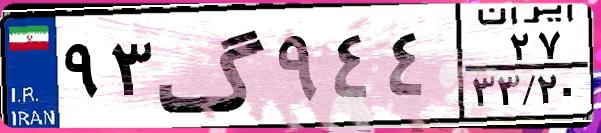0: (560, 70, 590, 125)
2: (508, 27, 537, 80), (535, 70, 560, 125)
3: (110, 28, 156, 98), (470, 70, 495, 125), (495, 70, 520, 125)
4: (385, 28, 445, 110), (330, 28, 385, 110)
7: (537, 27, 568, 80)
9: (270, 28, 330, 110), (57, 26, 110, 100)
گ: (156, 12, 270, 120)
